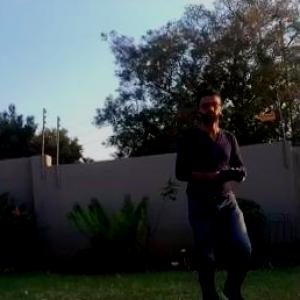follow: (174, 80, 274, 299)
